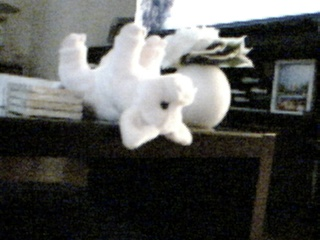piggy: (56, 23, 199, 151)
